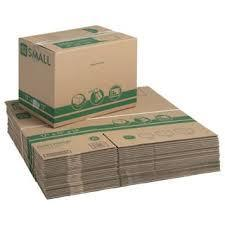box: (18, 24, 137, 129)
